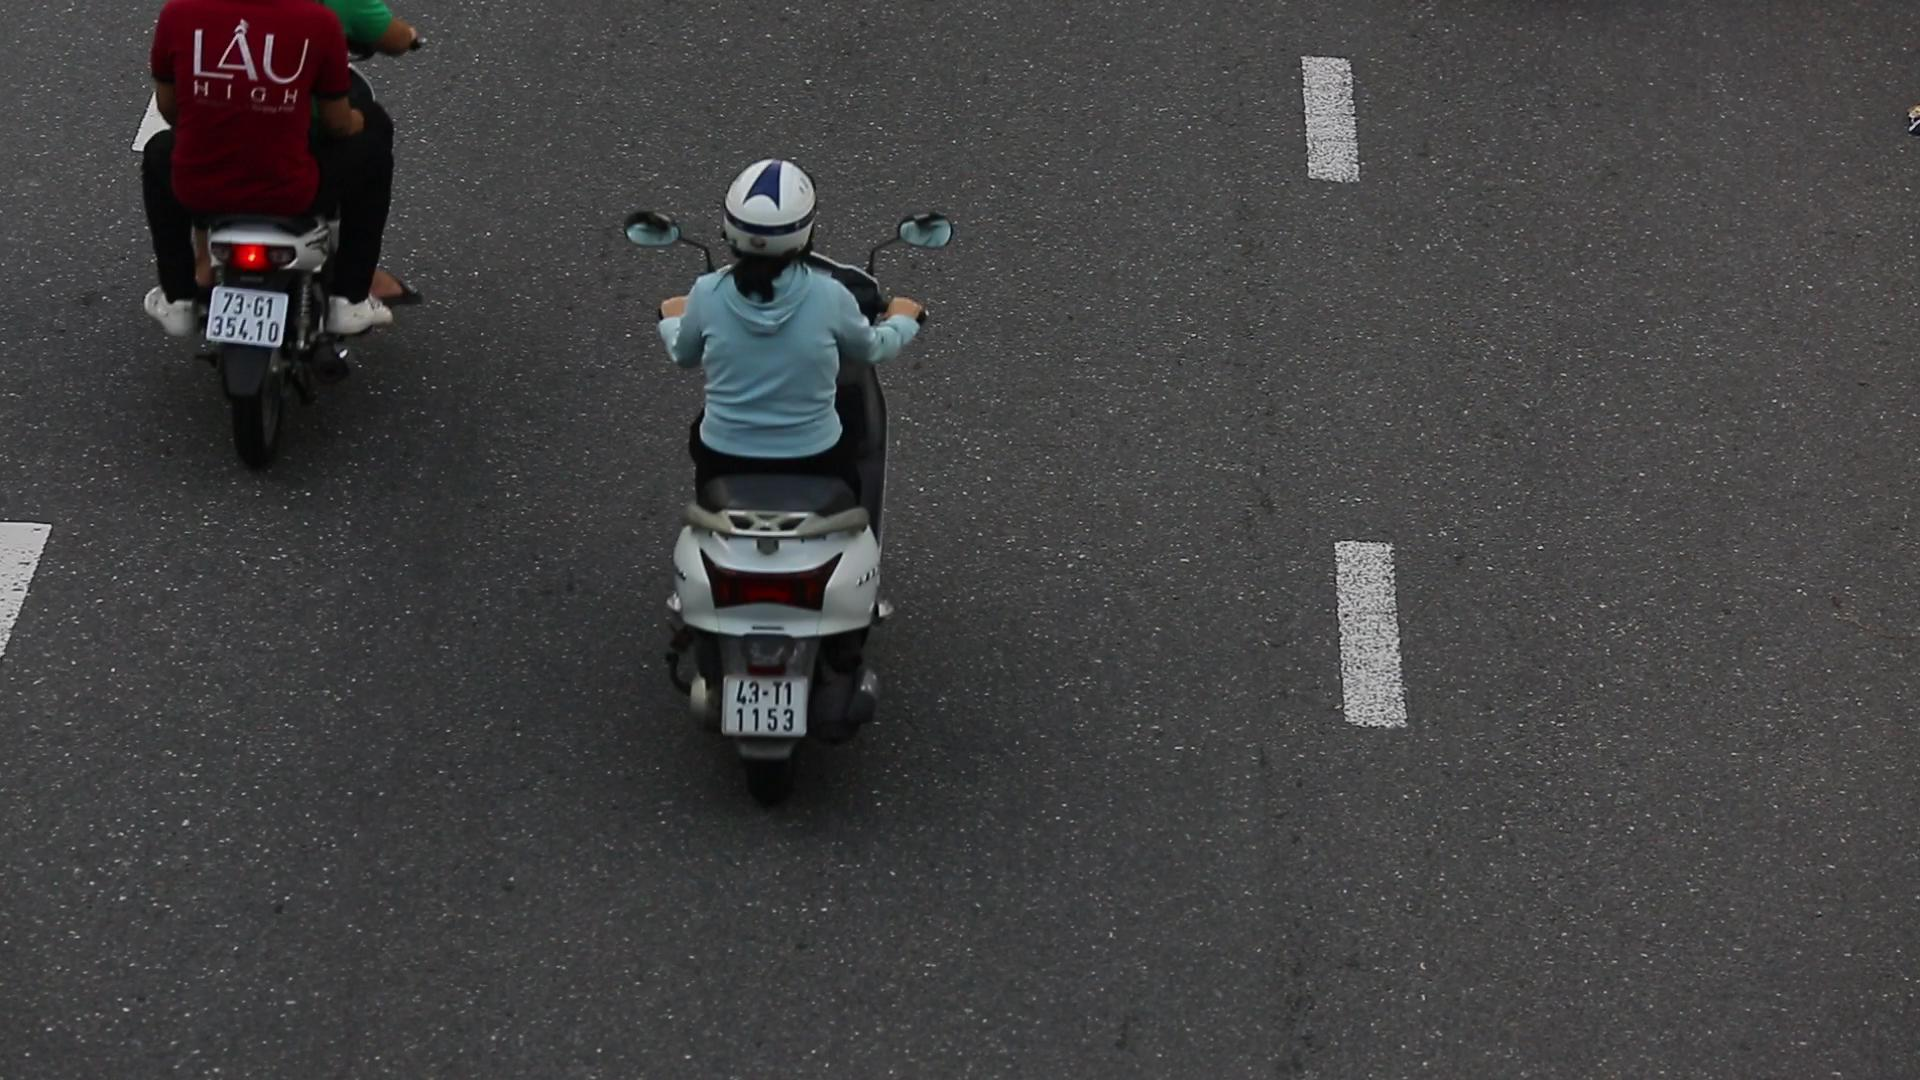motobike: (626, 131, 967, 778)
